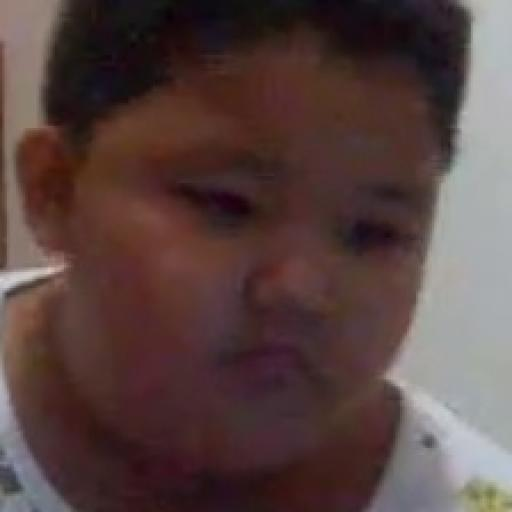Autism: (0, 32, 484, 506)
